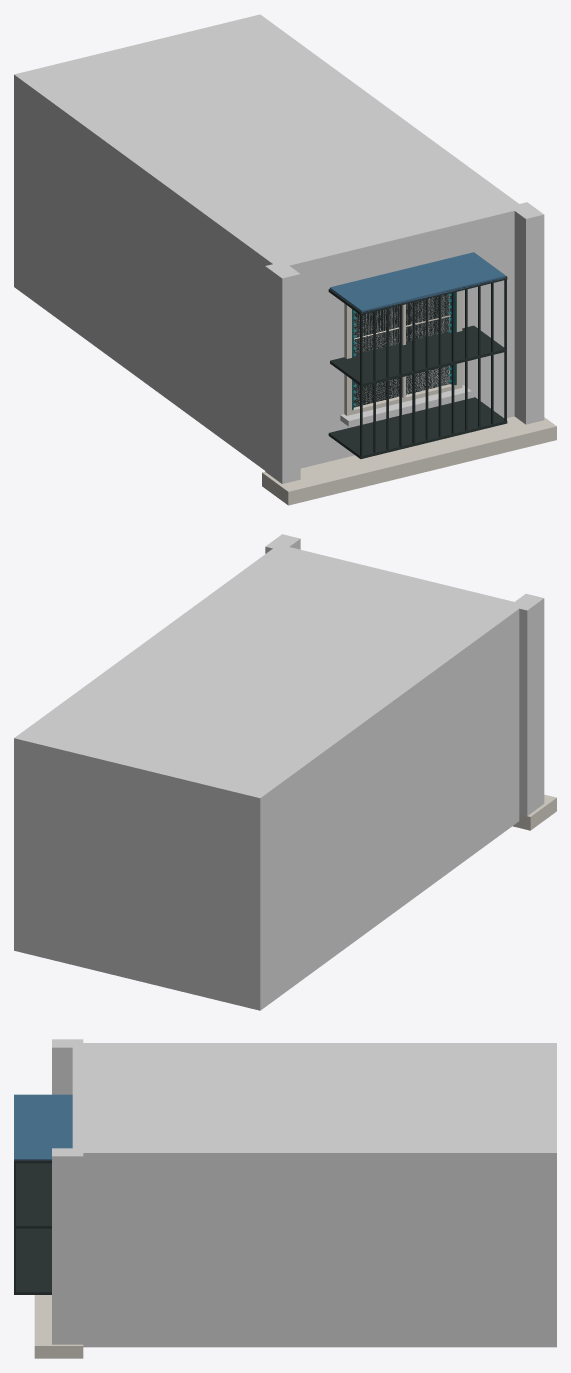
File: lau_chuong_cop_40.glb
The picture shows the model from 3 angles, top to bottom: view 1: azimuth 30°, elevation 25°; view 2: azimuth 150°, elevation 25°; view 3: azimuth 270°, elevation 25°; orthographic projection. The views are drawn at different scales.
Parts seen in each view (by area): view 1: lau_chuong_cop_40; view 2: lau_chuong_cop_40; view 3: lau_chuong_cop_40.
Boxes of the visible parts, left/top/right/bottom form: lau_chuong_cop_40: left=14, top=14, right=556, bottom=505; lau_chuong_cop_40: left=14, top=534, right=556, bottom=1010; lau_chuong_cop_40: left=14, top=1039, right=556, bottom=1358.
Size of the model in its own units: 4.1 by 3.2 by 7.85.
